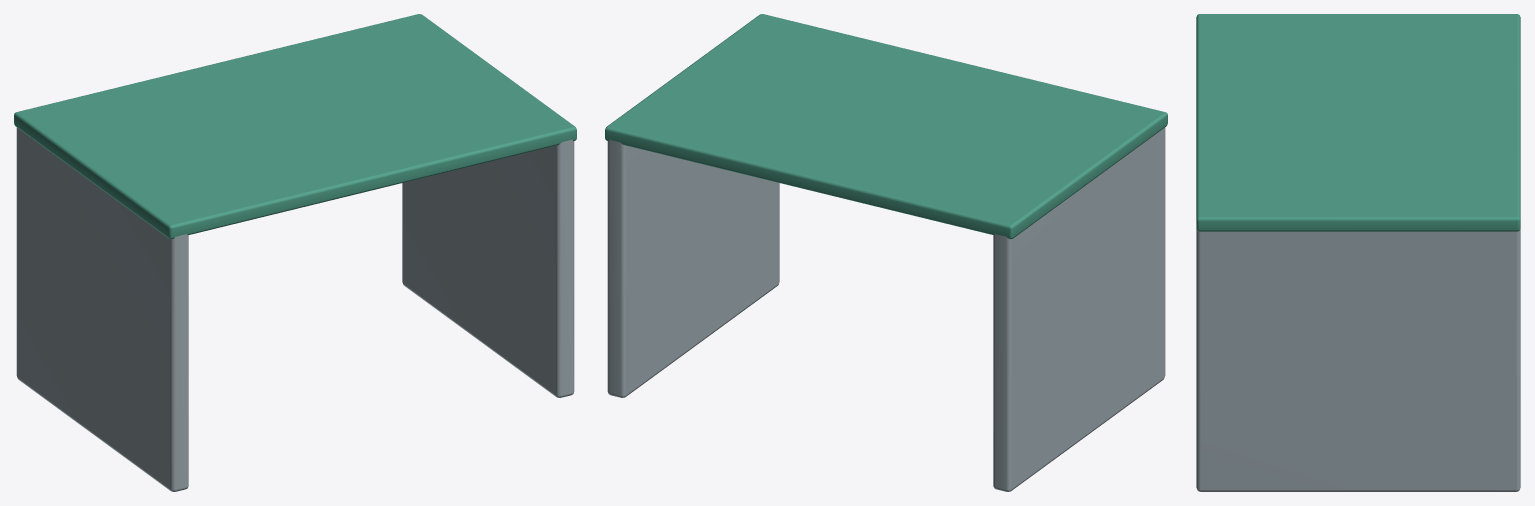
The model's file is prop-tunnel.glb.
3 views of the same model, side by side, from view 1: azimuth 30°, elevation 25°; view 2: azimuth 150°, elevation 25°; view 3: azimuth 270°, elevation 25° (orthographic). The views are drawn at different scales.
Parts seen in each view (by area): view 1: Roof, Wall, Wall.001; view 2: Roof, Wall, Wall.001; view 3: Wall.001, Roof.
Part boxes in pixels (bbox=[...]): Roof: bbox=[14, 14, 576, 239]; Wall: bbox=[16, 127, 188, 491]; Wall.001: bbox=[402, 139, 574, 397]; Roof: bbox=[605, 14, 1167, 239]; Wall: bbox=[993, 127, 1165, 491]; Wall.001: bbox=[607, 139, 779, 397]; Wall.001: bbox=[1196, 229, 1520, 491]; Roof: bbox=[1196, 14, 1520, 231].
Size of the model in its own units: 18 by 11.3 by 12.
